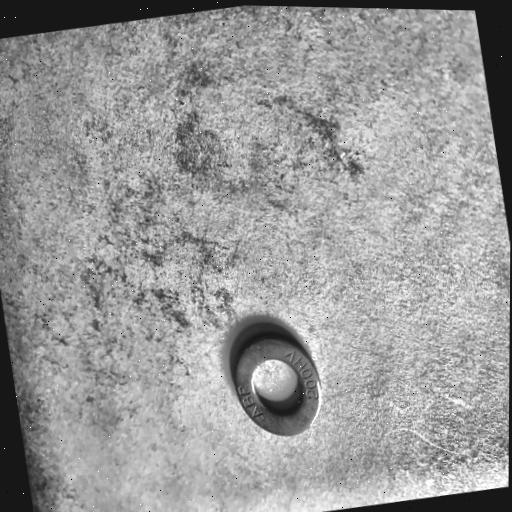Bolt: (251, 357, 304, 414)
Washer: (228, 318, 322, 438)
